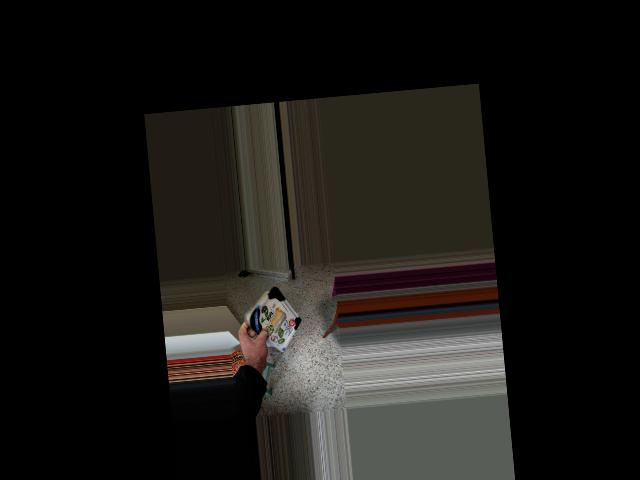cheese: (230, 285, 309, 346)
